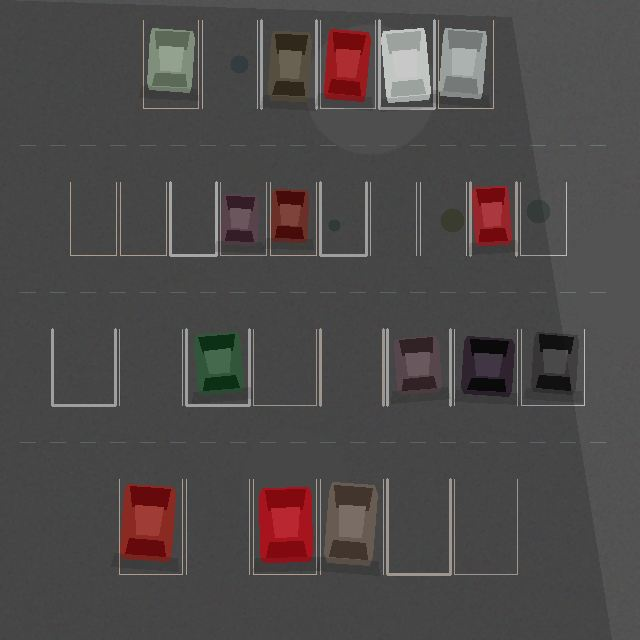space-empty: (186, 479, 249, 574), (387, 479, 450, 574), (454, 479, 517, 574), (202, 20, 257, 108), (52, 329, 115, 405), (119, 329, 182, 405), (253, 329, 316, 405), (320, 329, 383, 405), (70, 182, 116, 255), (120, 182, 166, 255), (170, 182, 216, 255), (320, 182, 366, 255), (370, 182, 416, 255), (420, 182, 466, 255), (520, 182, 566, 255)
space-occupied: (119, 479, 182, 574), (253, 479, 316, 574), (320, 479, 383, 574), (143, 20, 198, 108), (261, 20, 316, 108), (320, 20, 375, 108), (379, 20, 434, 108), (438, 20, 493, 108), (186, 329, 249, 405), (387, 329, 450, 405), (454, 329, 517, 405), (521, 329, 584, 405), (220, 182, 266, 255), (270, 182, 316, 255), (470, 182, 516, 255)
